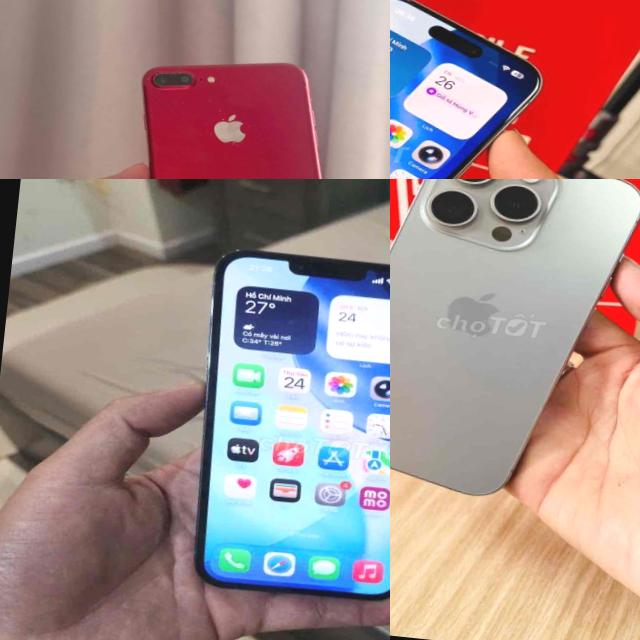gen_12_13: (167, 230, 390, 622)
gen_15: (390, 179, 640, 514), (390, 0, 548, 179)
gen_7_8: (118, 40, 378, 179)
scratch: (148, 66, 199, 92)
